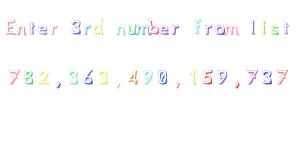,: (232, 79, 242, 90), (54, 79, 63, 91), (173, 79, 182, 90), (114, 79, 122, 91)
0: (157, 68, 169, 85)
1: (188, 67, 199, 85)
2: (37, 68, 50, 87)
3: (66, 68, 79, 85), (97, 68, 109, 86), (261, 68, 273, 86), (70, 17, 81, 36)
4: (127, 68, 139, 86)
5: (202, 67, 214, 86)
6: (82, 68, 96, 86)
7: (245, 67, 259, 85), (275, 68, 288, 87), (7, 67, 20, 85)
8: (23, 68, 34, 86)
9: (216, 68, 228, 86), (142, 68, 153, 85)
E: (3, 17, 16, 36)
b: (148, 17, 160, 36)
d: (93, 18, 105, 35)
e: (158, 22, 169, 36), (37, 23, 48, 36)
f: (192, 16, 202, 34)
i: (259, 18, 268, 35)
l: (248, 16, 257, 36)
m: (135, 22, 150, 36), (224, 23, 239, 37)
n: (114, 23, 126, 36), (16, 23, 27, 36)
o: (214, 23, 225, 35)
r: (169, 21, 180, 37), (49, 23, 59, 36), (204, 23, 213, 37), (83, 22, 91, 36)
s: (269, 23, 279, 36)
t: (26, 19, 36, 35), (281, 20, 290, 35)
u: (126, 21, 137, 36)
